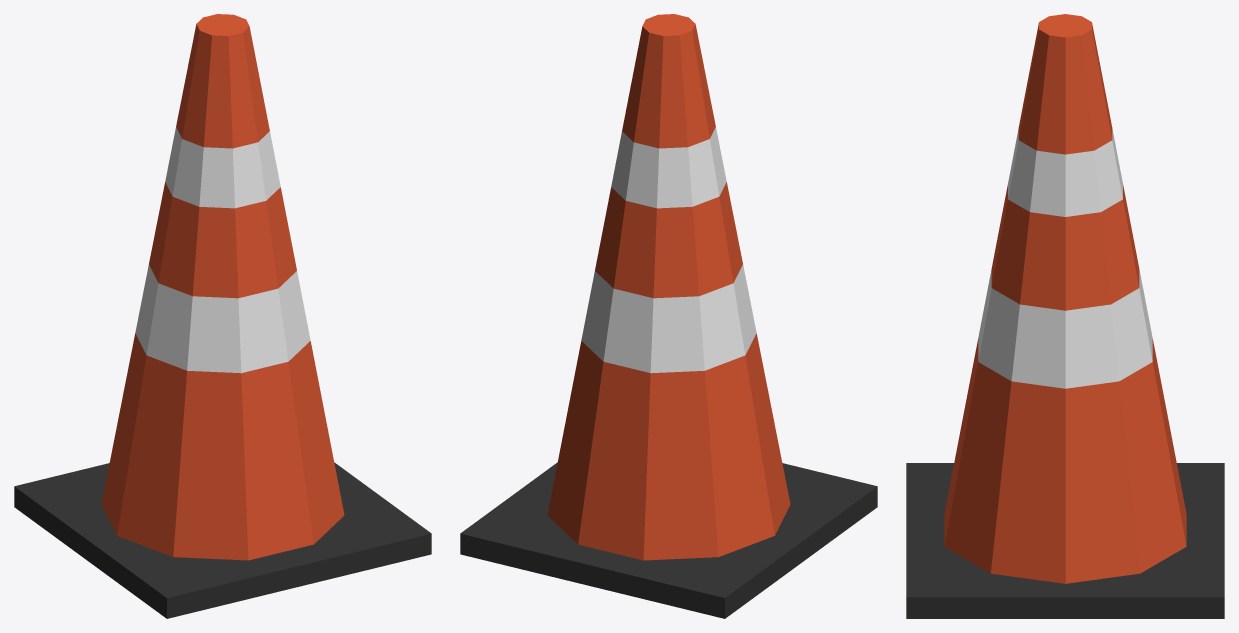
The model's file is traffic_cone.obj.
The picture shows the model from 3 angles, left to right: view 1: azimuth 30°, elevation 25°; view 2: azimuth 150°, elevation 25°; view 3: azimuth 270°, elevation 25°; orthographic projection. The views are drawn at different scales.
Parts seen in each view (by area): view 1: traffic_cone; view 2: traffic_cone; view 3: traffic_cone.
Boxes of the visible parts, x1=… form: traffic_cone: x1=14, y1=14, x2=431, y2=618; traffic_cone: x1=460, y1=14, x2=877, y2=618; traffic_cone: x1=906, y1=14, x2=1224, y2=618.
Bounding box in the file's own units: 0.4 × 0.73 × 0.4.
